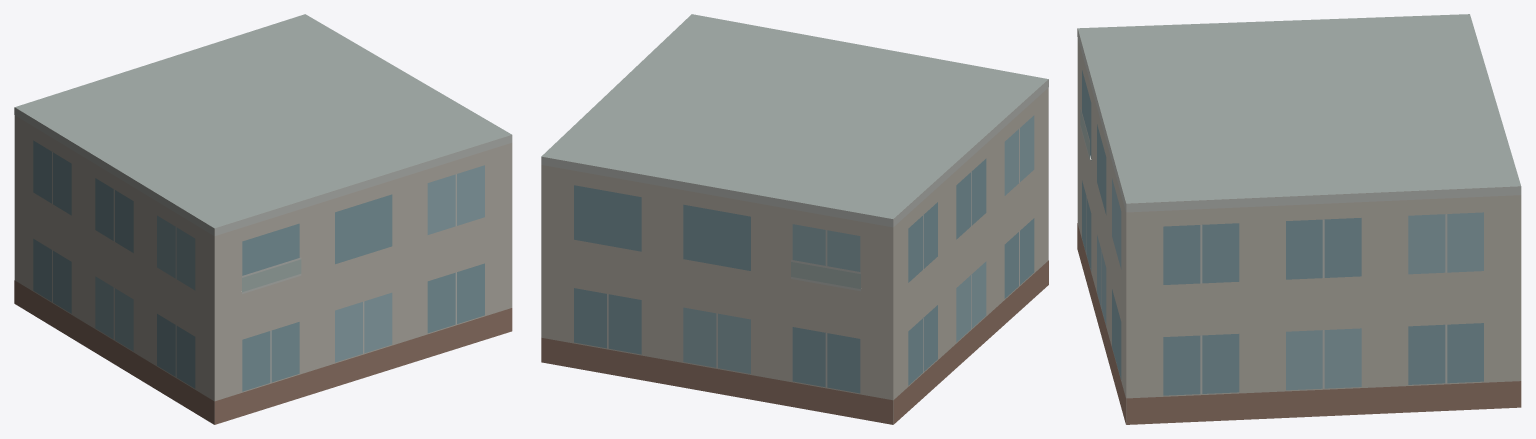
File: survey-upis-32788766.glb
The picture shows the model from 3 angles, left to right: view 1: azimuth 30°, elevation 25°; view 2: azimuth 150°, elevation 25°; view 3: azimuth 270°, elevation 25°; orthographic projection. The views are drawn at different scales.
Parts seen in each view (by area): view 1: survey-upis-32788766.tmp; view 2: survey-upis-32788766.tmp; view 3: survey-upis-32788766.tmp.
Boxes of the visible parts, x1,y1,x2,y2 form: survey-upis-32788766.tmp: (14,14,512,424); survey-upis-32788766.tmp: (541,14,1048,424); survey-upis-32788766.tmp: (1077,14,1521,424).
Size of the model in its own units: 11.22 by 6.1 by 11.1.
